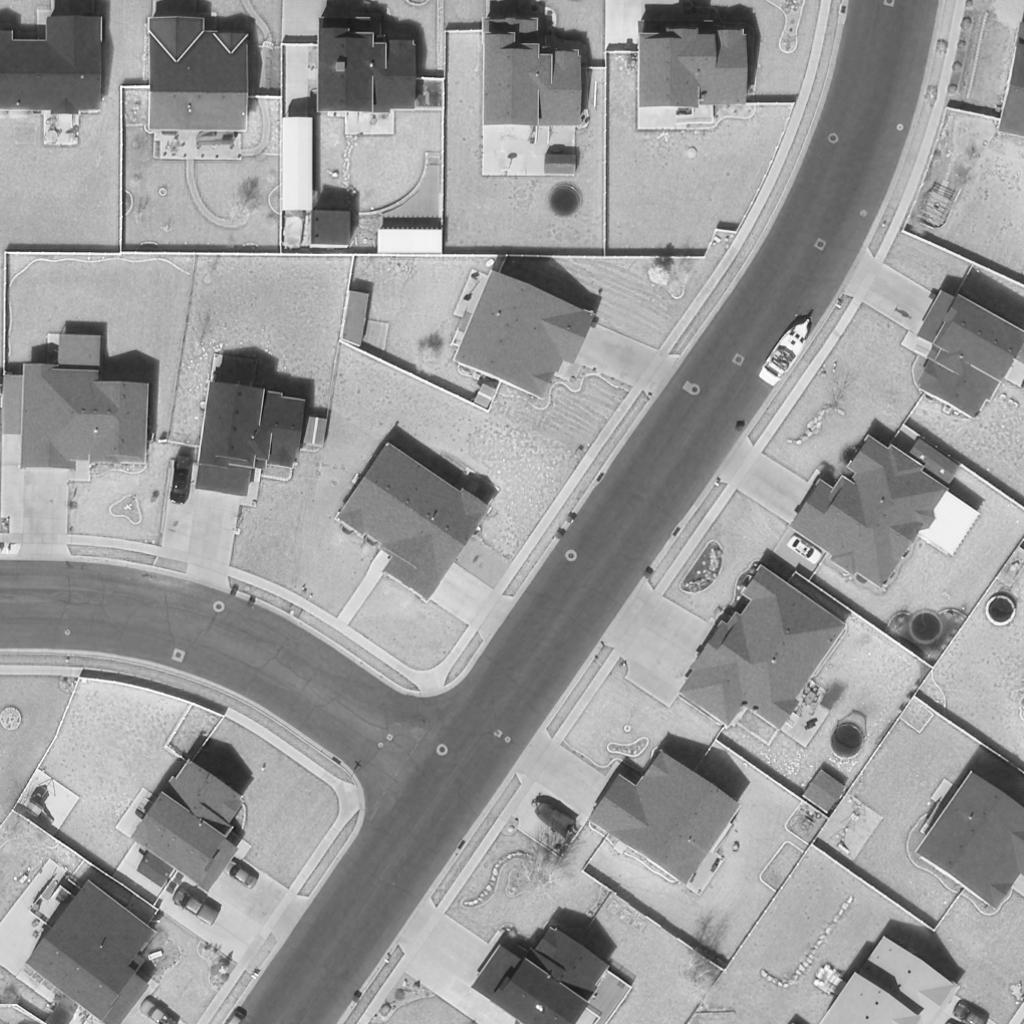vehicle: (756, 316, 818, 388), (530, 795, 576, 839), (171, 887, 221, 927), (283, 194, 307, 246), (171, 454, 195, 504), (222, 862, 260, 890), (138, 999, 180, 1024), (787, 535, 823, 563), (950, 1002, 990, 1024), (220, 1008, 250, 1024)
